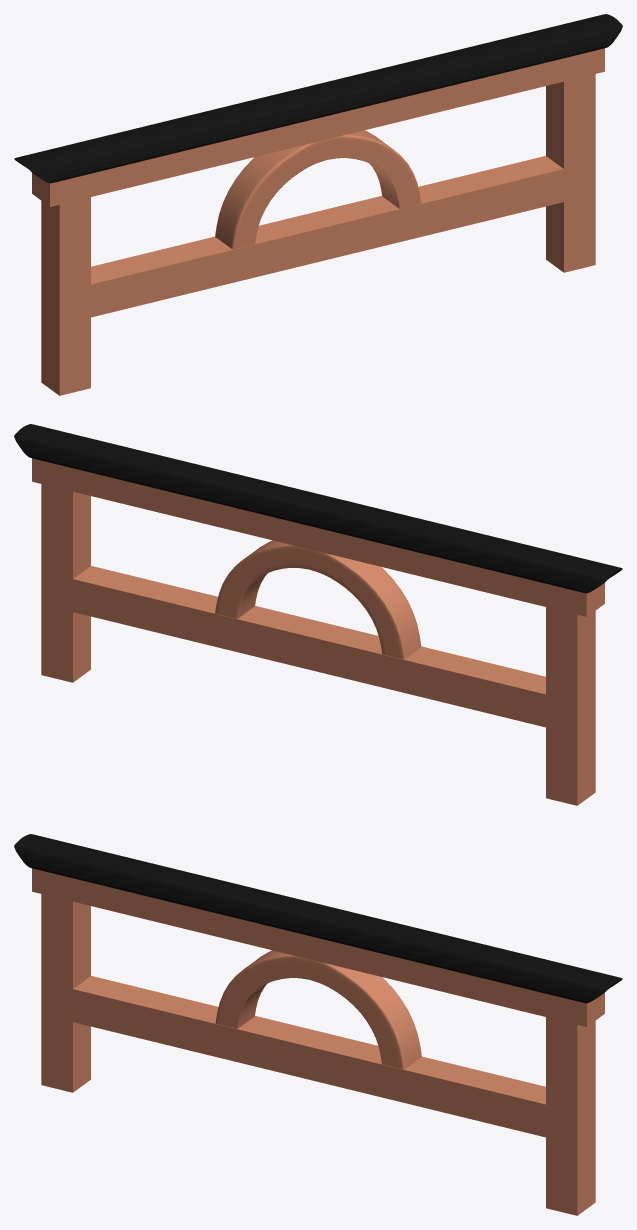
File: SrineGateBFence.fbx
3 renders of one model, top to bottom at view 1: azimuth 30°, elevation 25°; view 2: azimuth 150°, elevation 25°; view 3: azimuth 330°, elevation 25°, orthographic.
Parts seen in each view (by area): view 1: LowBar, Roof, Legs, HighBar, Arc; view 2: LowBar, Roof, Legs, HighBar, Arc; view 3: LowBar, Roof, Legs, HighBar, Arc.
Boxes of the visible parts, box(x1,y1,x2,y2) form: LowBar: box(91, 156, 563, 317); Roof: box(14, 14, 622, 183); Legs: box(41, 74, 595, 395); HighBar: box(32, 48, 604, 206); Arc: box(215, 130, 421, 249); LowBar: box(73, 566, 545, 727); Roof: box(14, 424, 622, 593); Legs: box(41, 484, 595, 805); HighBar: box(32, 458, 604, 616); Arc: box(215, 540, 421, 659); LowBar: box(73, 976, 545, 1137); Roof: box(14, 834, 622, 1003); Legs: box(41, 894, 595, 1215); HighBar: box(32, 868, 604, 1026); Arc: box(215, 950, 421, 1069).
Size of the model in its own units: 470 by 177 by 30.09.
